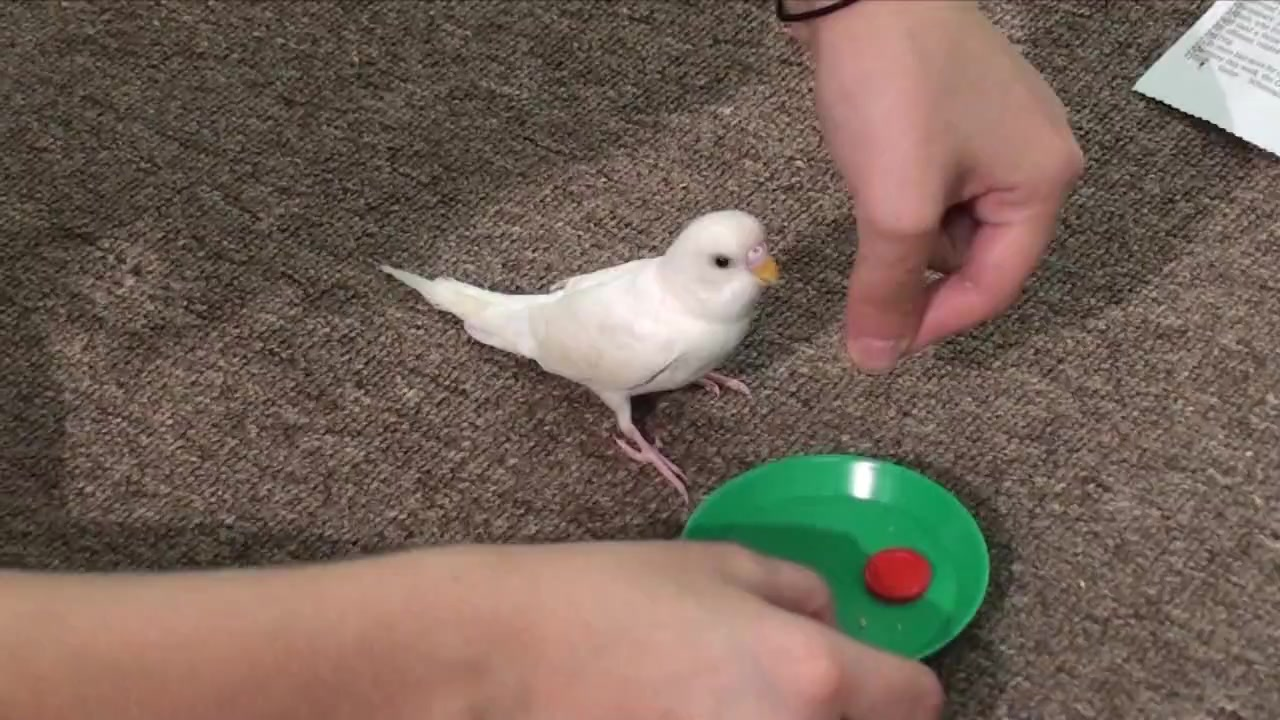bird: (378, 209, 782, 503)
